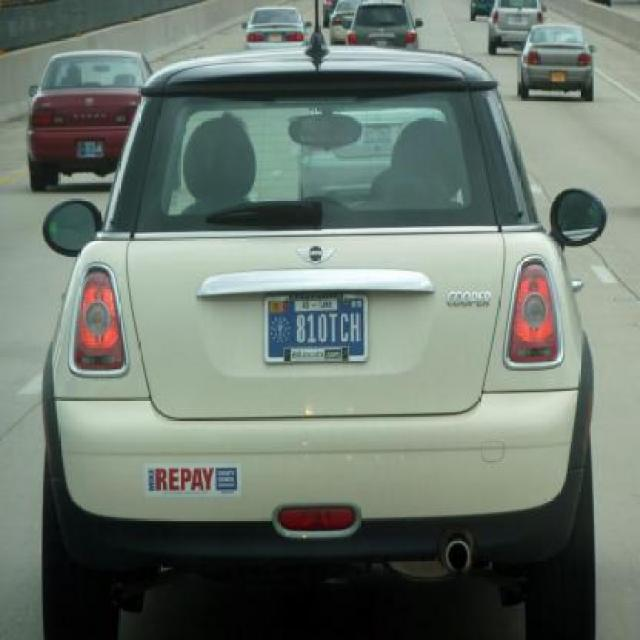License-Plates: (259, 286, 374, 370)
